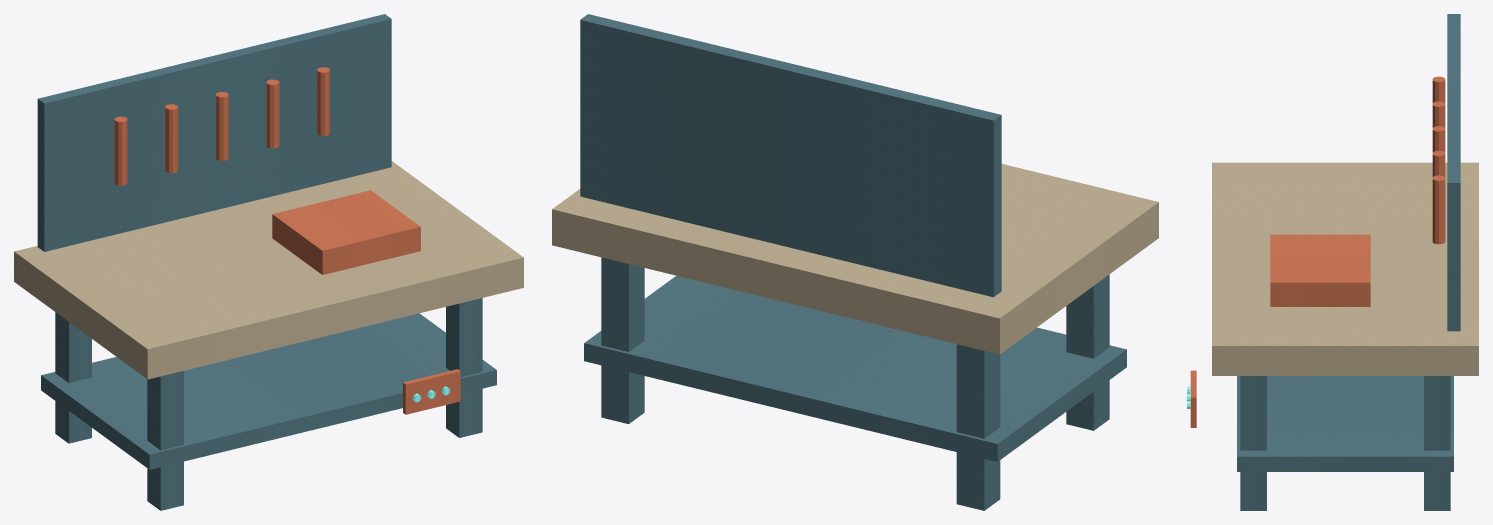
Rendered from atlas100-s046-a06.glb.
3 views of the same model, side by side, from view 1: azimuth 30°, elevation 25°; view 2: azimuth 150°, elevation 25°; view 3: azimuth 270°, elevation 25° (orthographic). The views are drawn at different scales.
Parts seen in each view (by area): view 1: atlas100-s046-a06:part-004, atlas100-s046-a06:part-006, atlas100-s046-a06:part-005, atlas100-s046-a06:part-012, atlas100-s046-a06:part-001, atlas100-s046-a06:part-003, atlas100-s046-a06:part-000, atlas100-s046-a06:part-013, atlas100-s046-a06:part-007, atlas100-s046-a06:part-010, atlas100-s046-a06:part-008, atlas100-s046-a06:part-009 (+1 smaller); view 2: atlas100-s046-a06:part-006, atlas100-s046-a06:part-005, atlas100-s046-a06:part-004, atlas100-s046-a06:part-000, atlas100-s046-a06:part-002, atlas100-s046-a06:part-001; view 3: atlas100-s046-a06:part-004, atlas100-s046-a06:part-005, atlas100-s046-a06:part-012, atlas100-s046-a06:part-006, atlas100-s046-a06:part-002, atlas100-s046-a06:part-003, atlas100-s046-a06:part-011, atlas100-s046-a06:part-013, atlas100-s046-a06:part-008, atlas100-s046-a06:part-007, atlas100-s046-a06:part-010, atlas100-s046-a06:part-009.
Boxes of the visible parts, x1=… form: atlas100-s046-a06:part-004: x1=14, y1=161, x2=523, y2=379; atlas100-s046-a06:part-006: x1=37, y1=14, x2=391, y2=251; atlas100-s046-a06:part-005: x1=41, y1=313, x2=496, y2=469; atlas100-s046-a06:part-012: x1=272, y1=190, x2=420, y2=274; atlas100-s046-a06:part-001: x1=147, y1=371, x2=183, y2=510; atlas100-s046-a06:part-003: x1=446, y1=298, x2=482, y2=437; atlas100-s046-a06:part-000: x1=55, y1=312, x2=91, y2=443; atlas100-s046-a06:part-013: x1=403, y1=369, x2=460, y2=414; atlas100-s046-a06:part-007: x1=114, y1=116, x2=127, y2=185; atlas100-s046-a06:part-010: x1=266, y1=79, x2=279, y2=148; atlas100-s046-a06:part-008: x1=165, y1=104, x2=178, y2=173; atlas100-s046-a06:part-009: x1=215, y1=92, x2=228, y2=160; atlas100-s046-a06:part-006: x1=580, y1=14, x2=1001, y2=297; atlas100-s046-a06:part-005: x1=584, y1=275, x2=1126, y2=461; atlas100-s046-a06:part-004: x1=552, y1=164, x2=1158, y2=354; atlas100-s046-a06:part-000: x1=956, y1=344, x2=1000, y2=510; atlas100-s046-a06:part-002: x1=601, y1=257, x2=644, y2=423; atlas100-s046-a06:part-001: x1=1066, y1=274, x2=1109, y2=430; atlas100-s046-a06:part-004: x1=1212, y1=162, x2=1478, y2=375; atlas100-s046-a06:part-005: x1=1237, y1=376, x2=1453, y2=471; atlas100-s046-a06:part-012: x1=1270, y1=234, x2=1370, y2=306; atlas100-s046-a06:part-006: x1=1447, y1=14, x2=1460, y2=331; atlas100-s046-a06:part-002: x1=1424, y1=376, x2=1450, y2=510; atlas100-s046-a06:part-003: x1=1240, y1=376, x2=1266, y2=510; atlas100-s046-a06:part-011: x1=1432, y1=175, x2=1445, y2=244; atlas100-s046-a06:part-013: x1=1190, y1=370, x2=1196, y2=427; atlas100-s046-a06:part-008: x1=1432, y1=101, x2=1445, y2=127; atlas100-s046-a06:part-007: x1=1432, y1=76, x2=1445, y2=102; atlas100-s046-a06:part-010: x1=1432, y1=150, x2=1445, y2=176; atlas100-s046-a06:part-009: x1=1432, y1=126, x2=1445, y2=152.
Bounding box in the file's own units: 2.6 × 2.21 × 1.75.
Materials: 4 (4 with a texture image).
